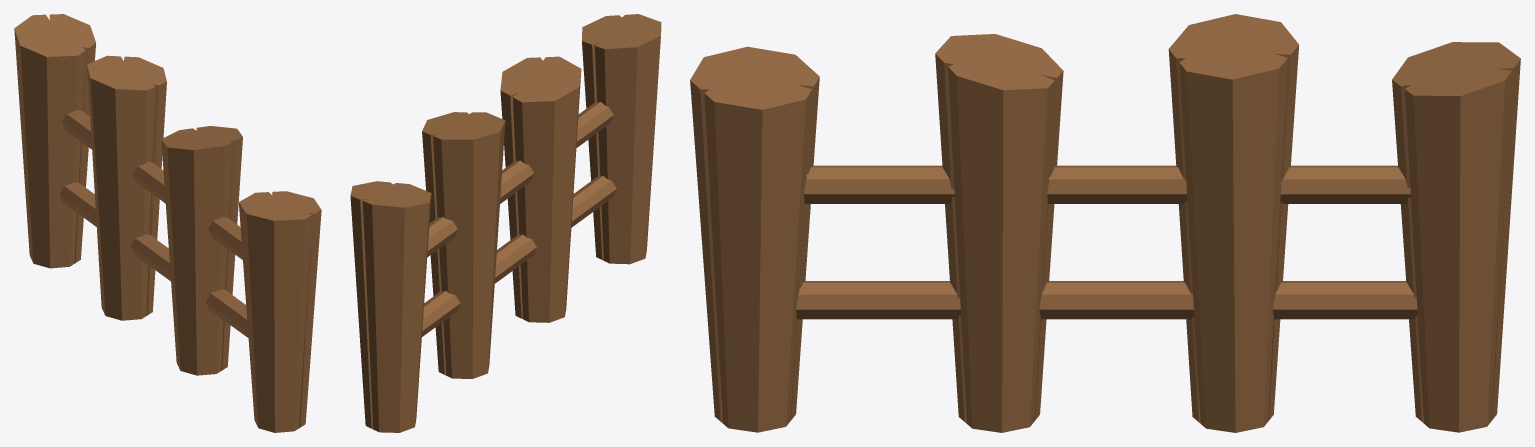
File: fence.fbx
The picture shows the model from 3 angles, left to right: view 1: azimuth 30°, elevation 25°; view 2: azimuth 150°, elevation 25°; view 3: azimuth 270°, elevation 25°; orthographic projection. The views are drawn at different scales.
Parts seen in each view (by area): view 1: fence; view 2: fence; view 3: fence.
Boxes of the visible parts, x1,y1,x2,y2 form: fence: [14, 14, 321, 432]; fence: [350, 14, 661, 432]; fence: [690, 14, 1520, 432].
Size of the model in its own units: 67.63 by 213 by 428.
